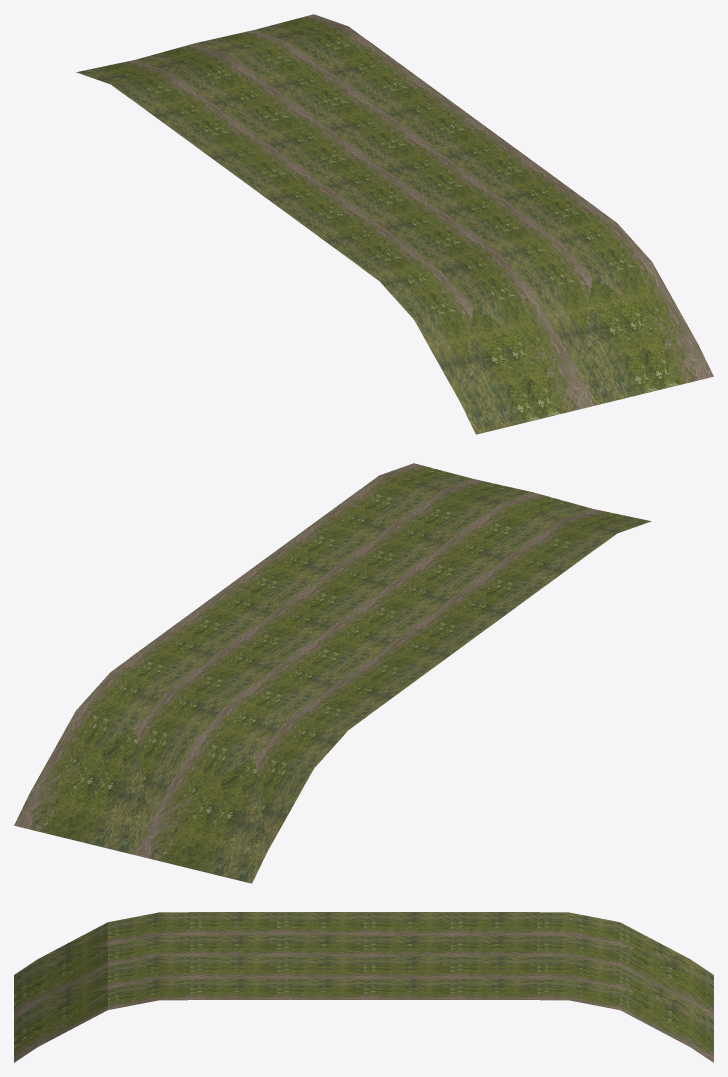
File: floorL.gltf
The picture shows the model from 3 angles, top to bottom: view 1: azimuth 30°, elevation 25°; view 2: azimuth 150°, elevation 25°; view 3: azimuth 270°, elevation 25°; orthographic projection. The views are drawn at different scales.
Bounding box in the file's own units: 60 × 20 × 202.
1 material, 1 textured.
